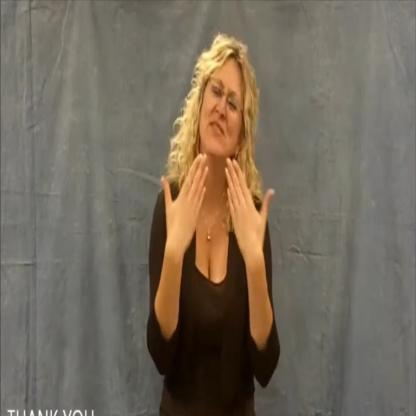ThankYou: (161, 26, 243, 242)
